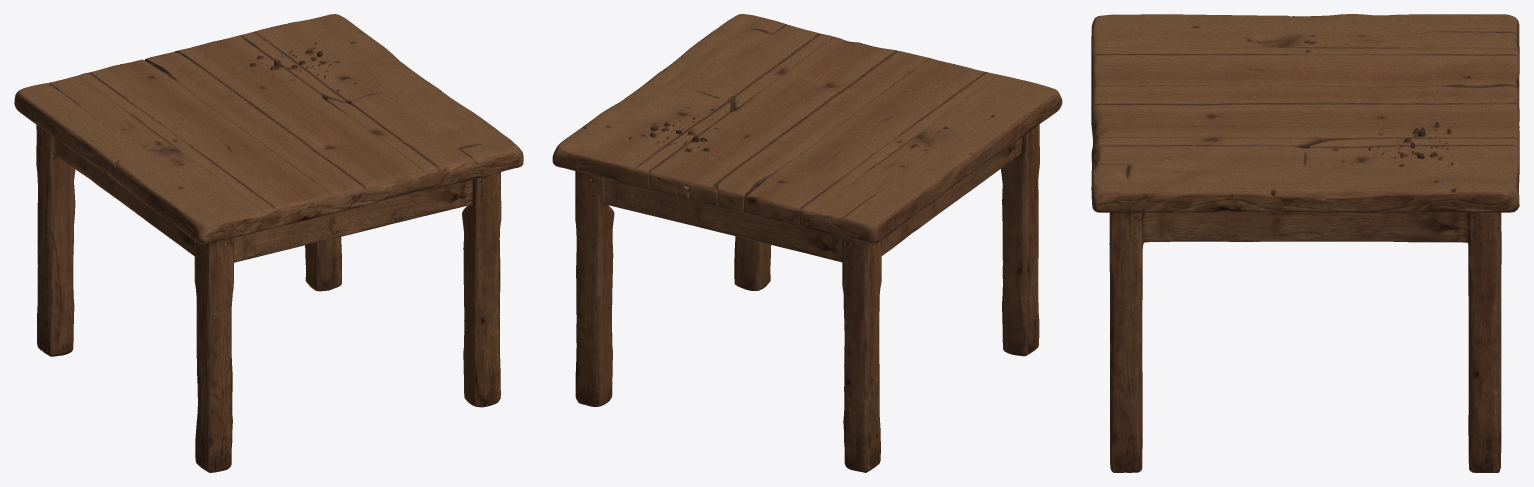
Rendered from table-base.glb.
3 renders of one model, left to right at view 1: azimuth 30°, elevation 25°; view 2: azimuth 150°, elevation 25°; view 3: azimuth 270°, elevation 25°, orthographic. The views are drawn at different scales.
Bounding box in the file's own units: 1.98 × 1.54 × 2.
Materials: 1 (1 with a texture image).
